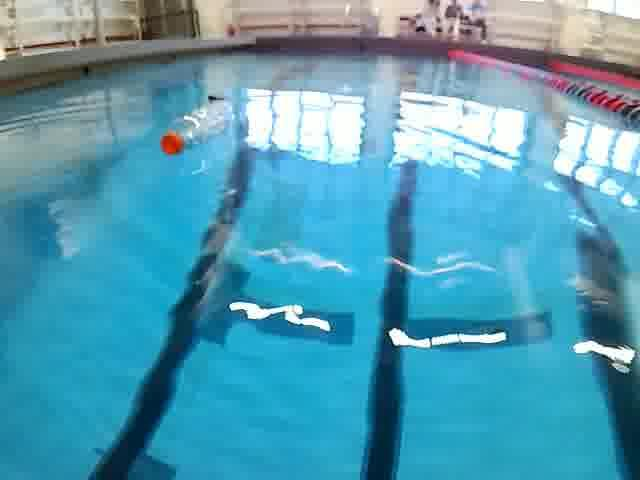Bottle: (155, 99, 237, 157)
